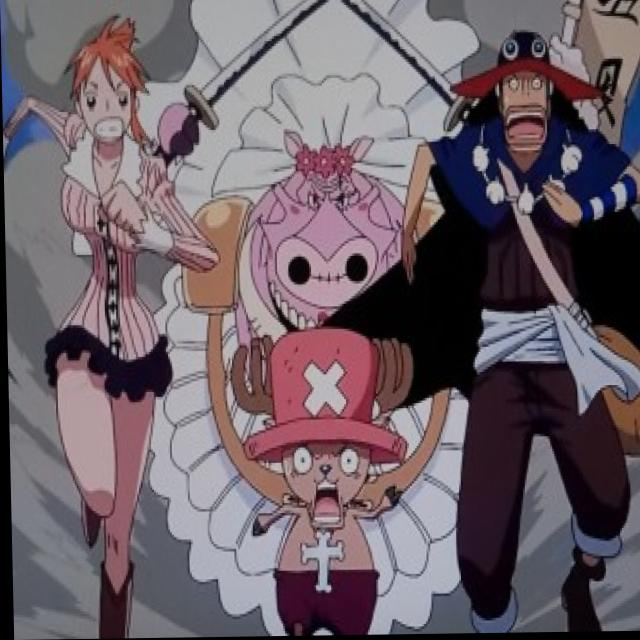Chyopa: (220, 319, 420, 638)
Nami: (59, 13, 154, 159)
Usopp: (465, 25, 597, 173)
